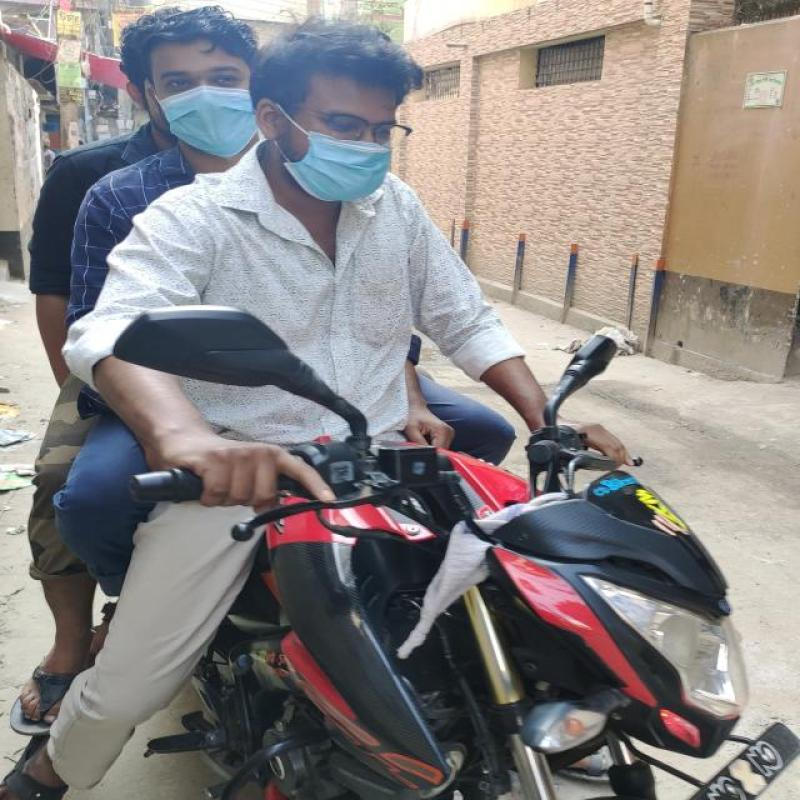nohelmet: (268, 20, 414, 195), (127, 0, 270, 169)
